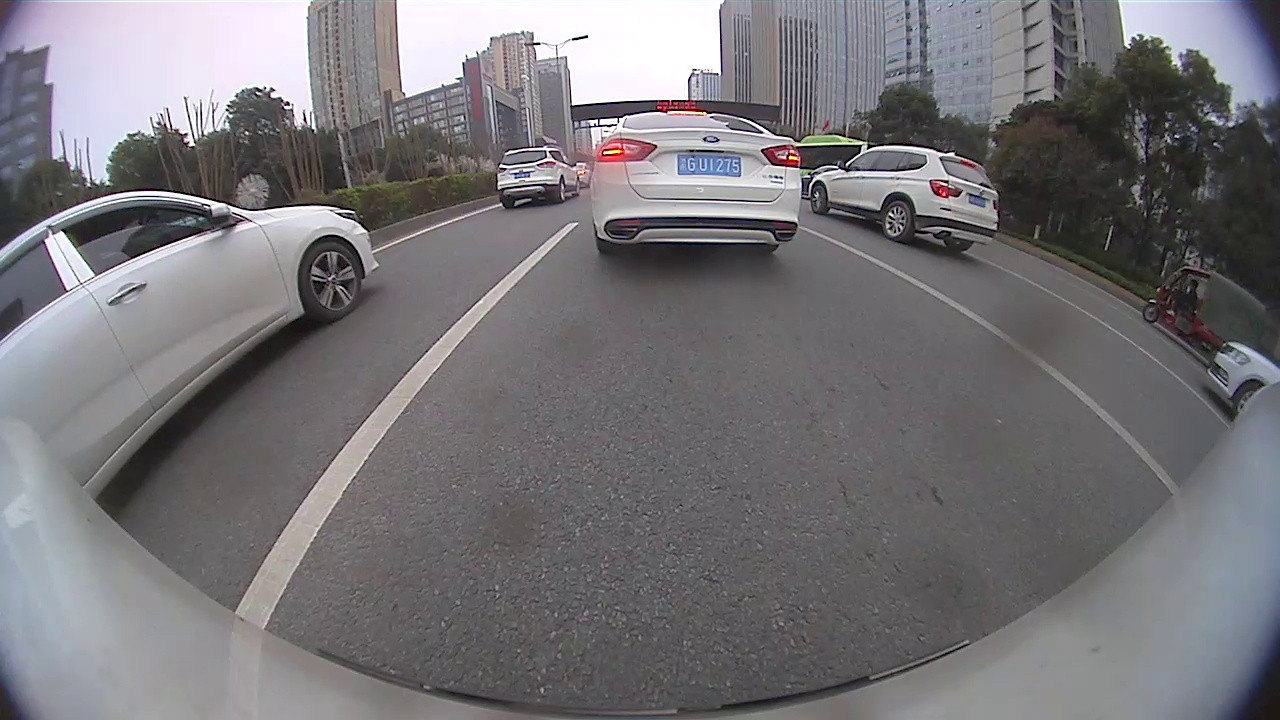bus: (795, 135, 868, 199)
car: (1, 190, 381, 501), (590, 109, 803, 256), (808, 144, 999, 254), (1206, 340, 1279, 420), (496, 144, 580, 209)
front: (297, 236, 371, 324), (808, 183, 829, 217)
rear: (881, 197, 917, 242), (553, 176, 564, 204)
rider: (1140, 266, 1266, 353)
